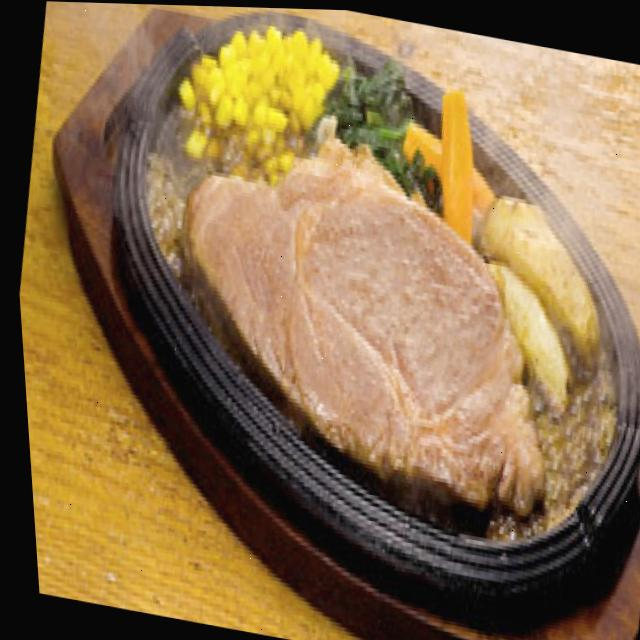牛肉菜式: (158, 110, 603, 523)
